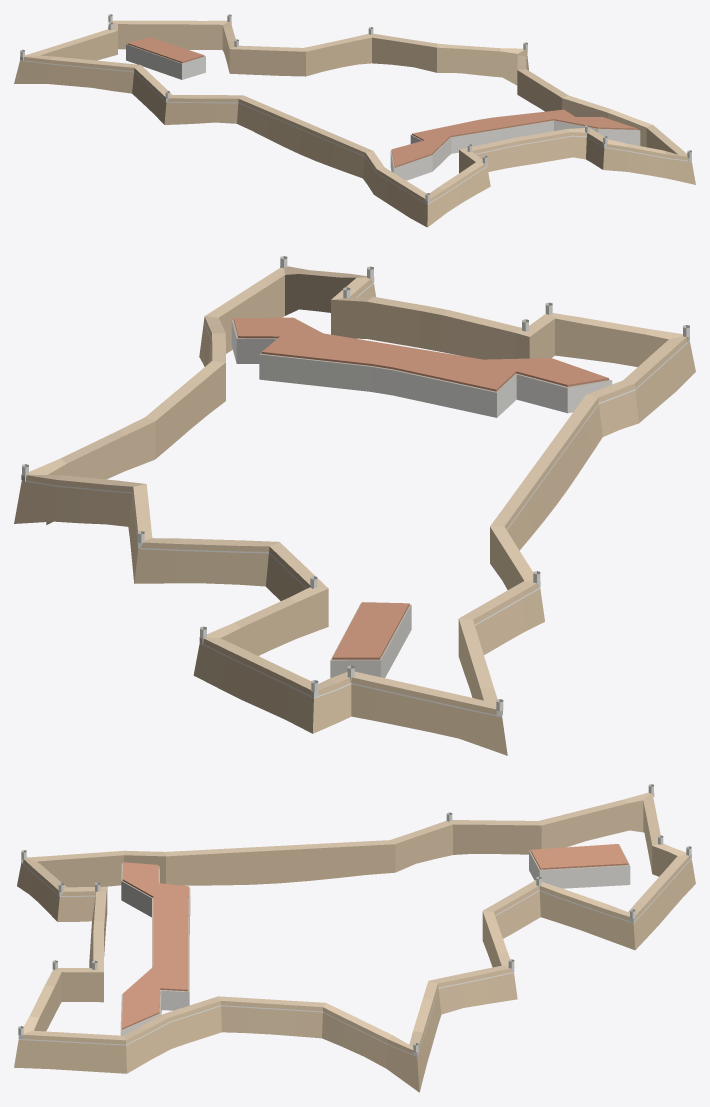
File: luanda-far.glb
The picture shows the model from 3 angles, top to bottom: view 1: azimuth 30°, elevation 25°; view 2: azimuth 150°, elevation 25°; view 3: azimuth 270°, elevation 25°; orthographic projection. The views are drawn at different scales.
Visible parts, largest first — view 1: luanda_far; view 2: luanda_far; view 3: luanda_far.
Boxes of the visible parts, bbox=[...] form: luanda_far: bbox=[14, 14, 695, 227]; luanda_far: bbox=[14, 256, 695, 755]; luanda_far: bbox=[14, 784, 695, 1092].
Size of the model in its own units: 176 by 31.95 by 207.
